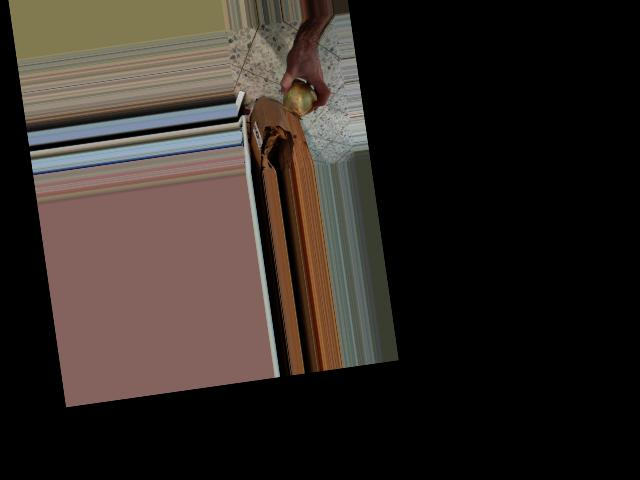onion: (279, 74, 320, 121)
